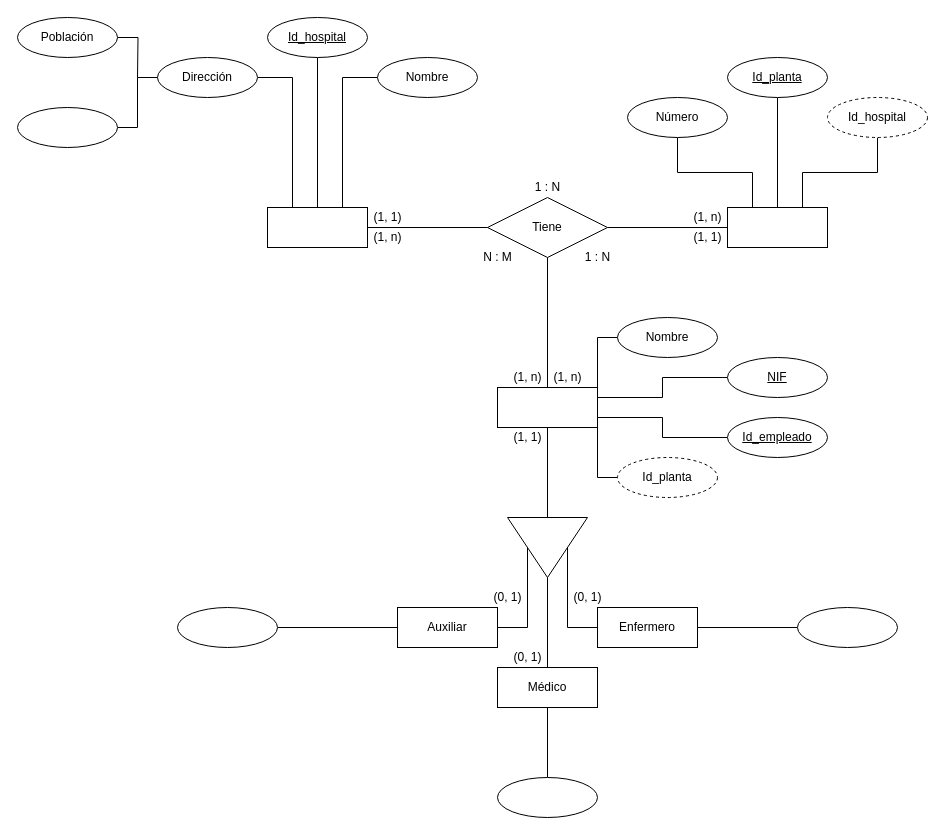
Image size: 945x835. Some labels were removed from this diagram. The centre of each missing label's shape, as x and y in pixels:
"CP" belongs at pixel 67 127.
"Empleado" belongs at pixel 547 407.
"Es" belongs at pixel 547 547.
"Hospital" belongs at pixel 317 227.
"Interino" belongs at pixel 547 797.
"Planta" belongs at pixel 777 227.
"Tipo" belongs at pixel 227 627.
"UCI" belongs at pixel 847 627.
